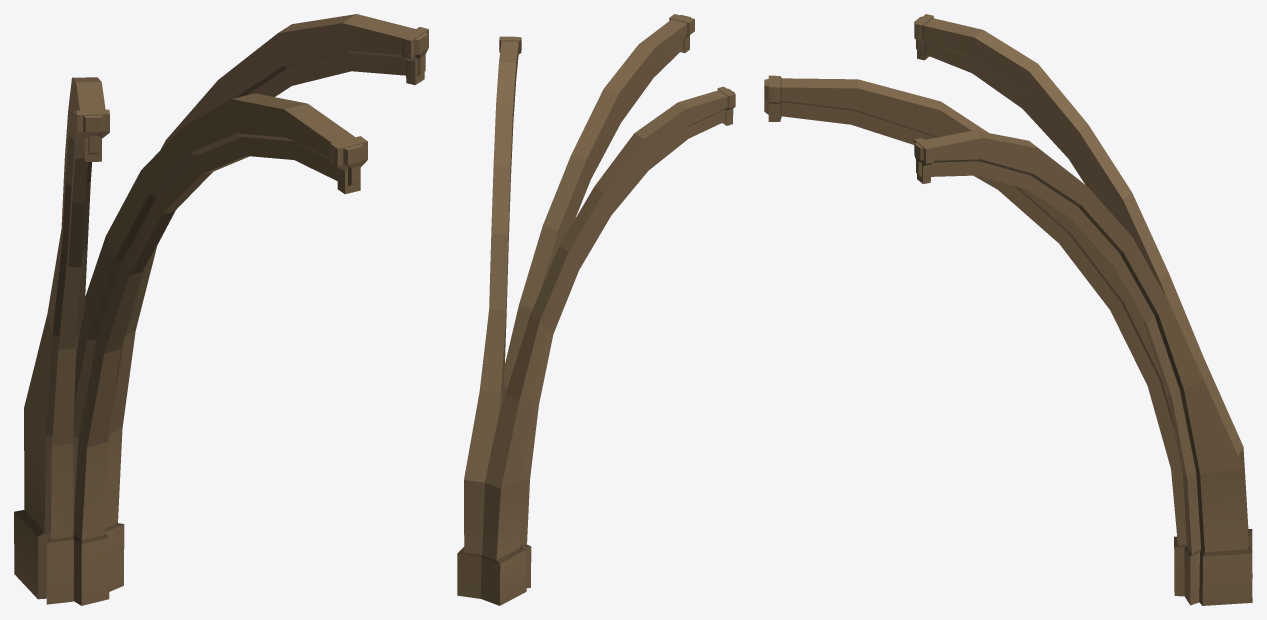
Rendered from elven_SM_Bld_SupportBeam_Large_01.gltf.
The picture shows the model from 3 angles, left to right: view 1: azimuth 30°, elevation 25°; view 2: azimuth 150°, elevation 25°; view 3: azimuth 270°, elevation 25°; orthographic projection. The views are drawn at different scales.
Visible parts, largest first — view 1: SM_Bld_SupportBeam_Large_01; view 2: SM_Bld_SupportBeam_Large_01; view 3: SM_Bld_SupportBeam_Large_01.
Boxes of the visible parts, left/top/right/bottom form: SM_Bld_SupportBeam_Large_01: left=14, top=14, right=428, bottom=605; SM_Bld_SupportBeam_Large_01: left=457, top=14, right=735, bottom=605; SM_Bld_SupportBeam_Large_01: left=764, top=14, right=1252, bottom=605.
Size of the model in its own units: 5.39 by 9.45 by 8.21.
Materials: 1 (1 with a texture image).
